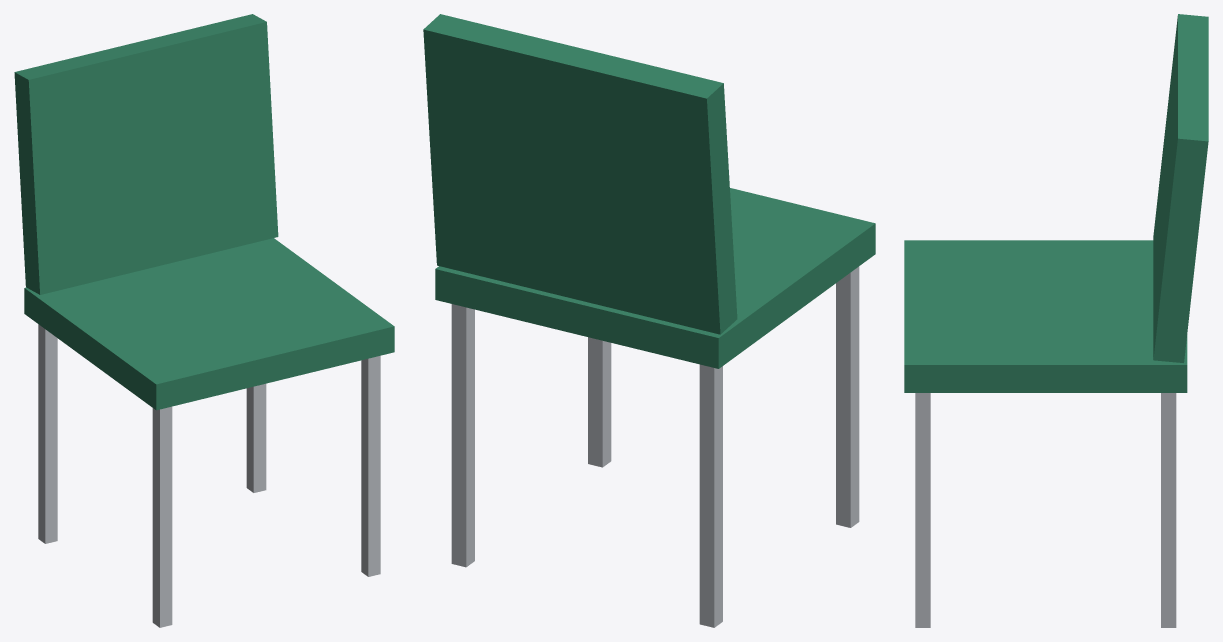
The model's file is waiting_chair.glb.
3 renders of one model, left to right at view 1: azimuth 30°, elevation 25°; view 2: azimuth 150°, elevation 25°; view 3: azimuth 270°, elevation 25°, orthographic. The views are drawn at different scales.
Parts seen in each view (by area): view 1: back_waiting_green, seat_waiting_green, leg_carousel_chrome; view 2: back_waiting_green, seat_waiting_green, leg_carousel_chrome; view 3: seat_waiting_green, back_waiting_green, leg_carousel_chrome.
Part boxes in pixels (x1=…): back_waiting_green: x1=14, y1=14, x2=278, y2=294; seat_waiting_green: x1=24, y1=238, x2=394, y2=410; leg_carousel_chrome: x1=38, y1=324, x2=380, y2=627; back_waiting_green: x1=423, y1=14, x2=737, y2=334; seat_waiting_green: x1=435, y1=188, x2=875, y2=368; leg_carousel_chrome: x1=451, y1=266, x2=859, y2=627; seat_waiting_green: x1=904, y1=240, x2=1187, y2=392; back_waiting_green: x1=1153, y1=14, x2=1208, y2=362; leg_carousel_chrome: x1=915, y1=393, x2=1176, y2=627.
Bounding box in the file's own units: 0.48 × 0.8865 × 0.4948.
